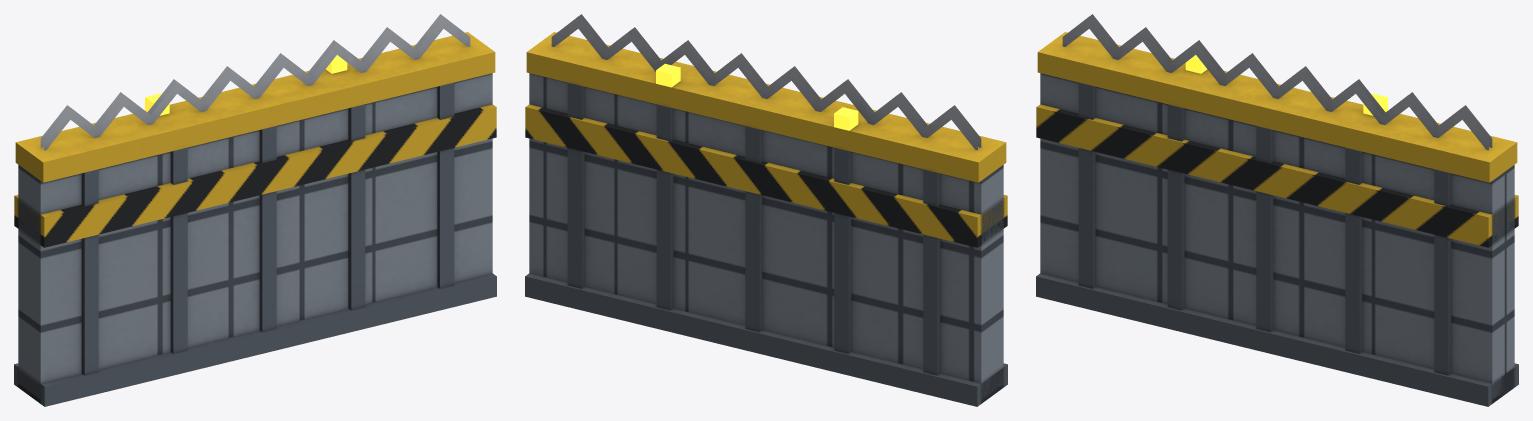
Rendered from fort_l7_edge.glb.
The picture shows the model from 3 angles, left to right: view 1: azimuth 30°, elevation 25°; view 2: azimuth 150°, elevation 25°; view 3: azimuth 330°, elevation 25°; orthographic projection.
Parts seen in each view (by area): view 1: fort_l7_edge; view 2: fort_l7_edge; view 3: fort_l7_edge.
Part boxes in pixels (box(x1,y1,x2,y2)): fort_l7_edge: box(14, 14, 496, 406); fort_l7_edge: box(525, 14, 1007, 406); fort_l7_edge: box(1036, 14, 1518, 406).
Size of the model in its own units: 0.7 by 0.414 by 0.082.
2 materials, 1 textured.
